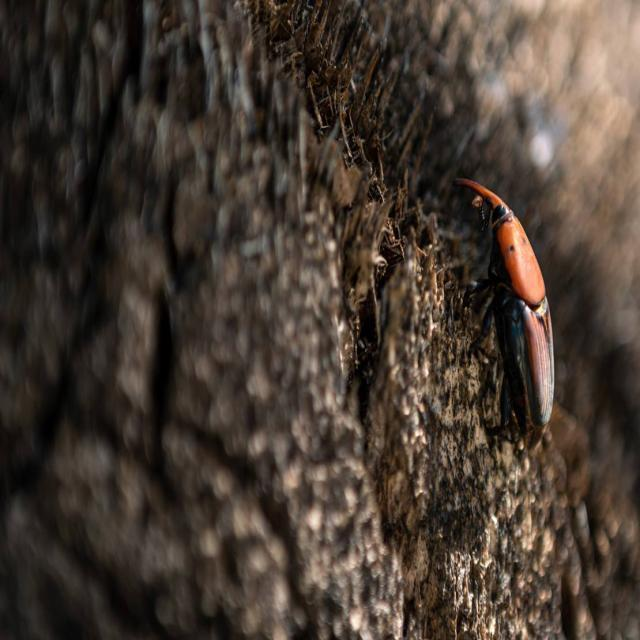Red-palm-weevil: (400, 137, 611, 487)
